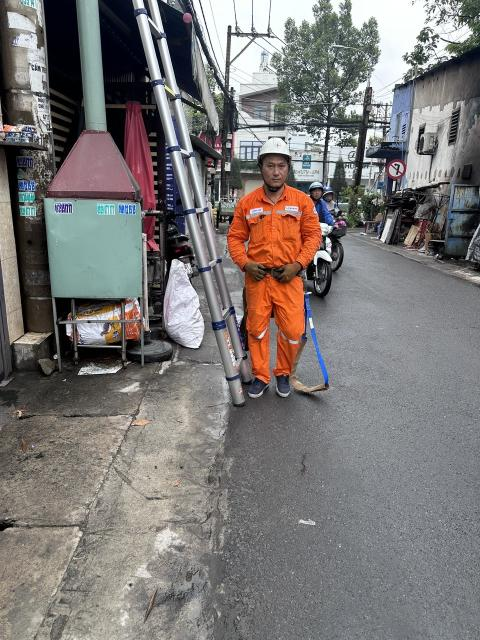harness: (250, 258, 303, 286)
helmet: (251, 133, 300, 162)
shoes: (238, 372, 272, 407), (267, 364, 296, 400)
